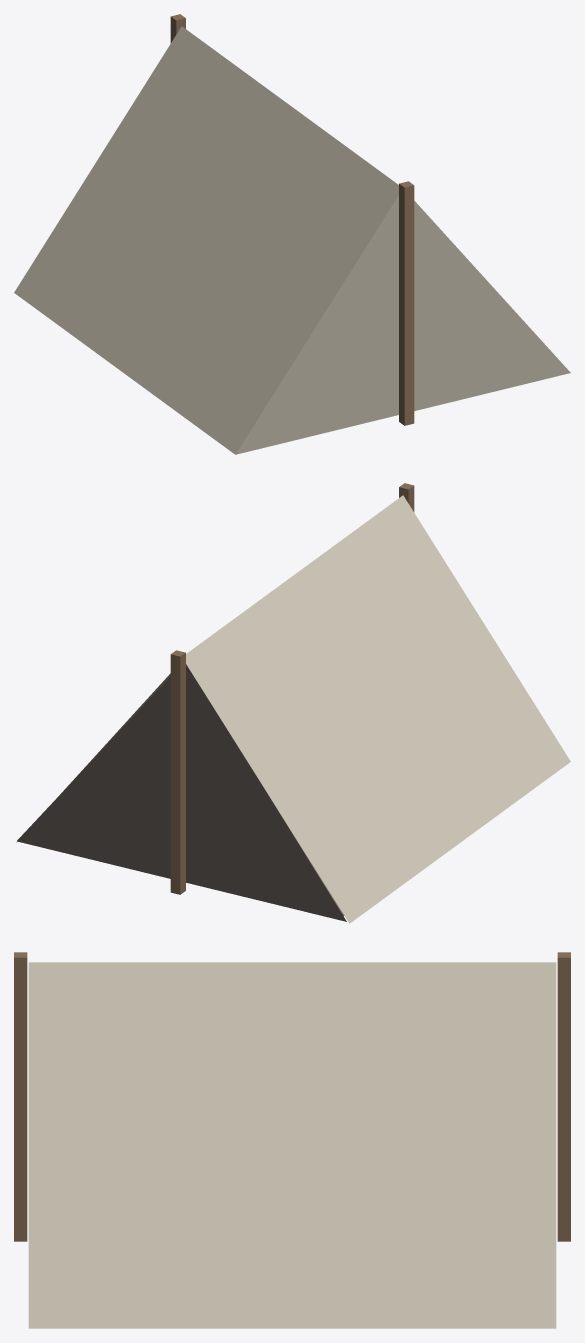
File: tent.glb
3 views of the same model, one above another, from view 1: azimuth 30°, elevation 25°; view 2: azimuth 150°, elevation 25°; view 3: azimuth 270°, elevation 25° (orthographic). The views are drawn at different scales.
Parts seen in each view (by area): view 1: tent; view 2: tent; view 3: tent.
Boxes of the visible parts, x1=… form: tent: x1=14, y1=14, x2=570, y2=454; tent: x1=16, y1=483, x2=570, y2=923; tent: x1=14, y1=952, x2=570, y2=1328.
Size of the model in its own units: 2.8 by 1.9 by 3.38.
